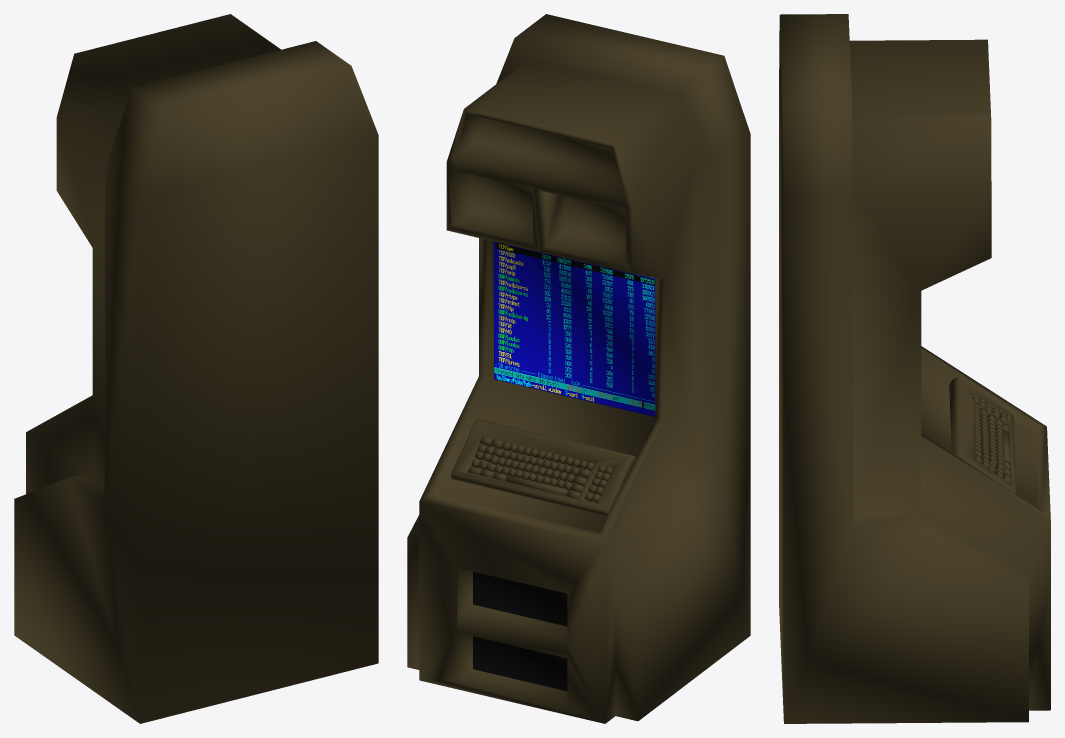
File: server.obj
3 renders of one model, left to right at view 1: azimuth 30°, elevation 25°; view 2: azimuth 150°, elevation 25°; view 3: azimuth 270°, elevation 25°, orthographic. The views are drawn at different scales.
Visible parts, largest first — view 1: computor_:FullComputer.001; view 2: computor_:FullComputer.001; view 3: computor_:FullComputer.001.
Boxes of the visible parts, box(x1,y1,x2,y2) form: computor_:FullComputer.001: box(14, 14, 378, 723); computor_:FullComputer.001: box(407, 14, 750, 723); computor_:FullComputer.001: box(779, 14, 1050, 723).
Bounding box in the file's own units: 1 × 2.36 × 0.9622.
